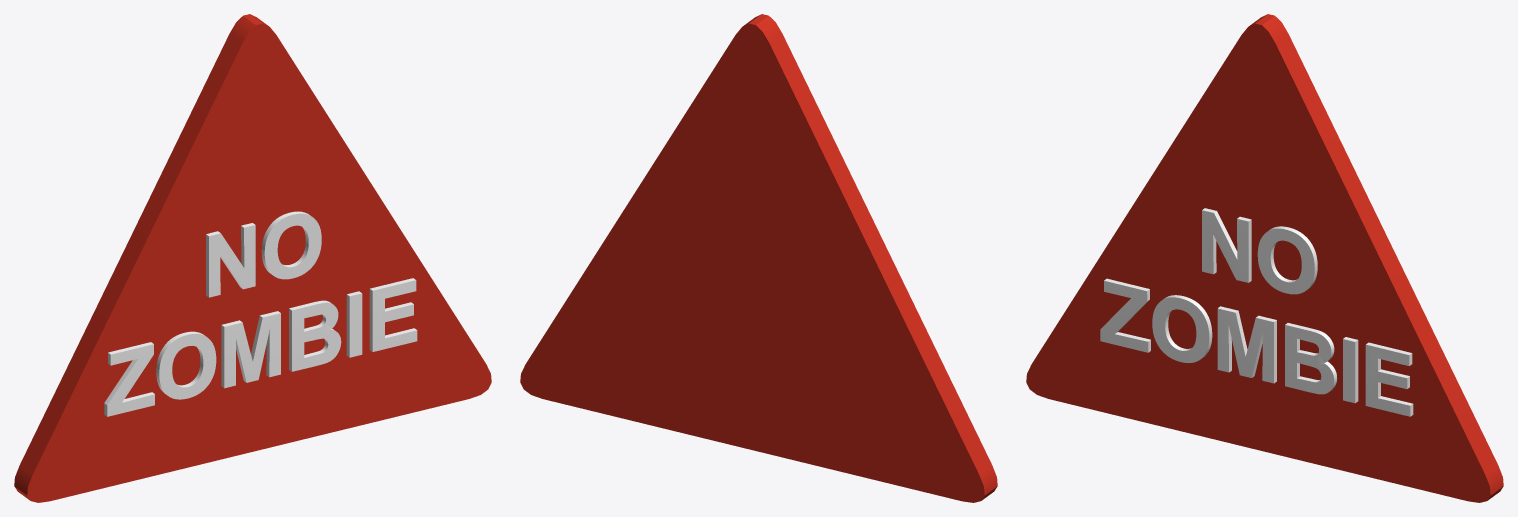
File: 15 No Zombie board.FBX
3 views of the same model, side by side, from view 1: azimuth 30°, elevation 25°; view 2: azimuth 150°, elevation 25°; view 3: azimuth 330°, elevation 25° (orthographic).
Visible parts, largest first — view 1: No_Zombie_board; view 2: No_Zombie_board; view 3: No_Zombie_board.
Part boxes in pixels (x1=…): No_Zombie_board: x1=14, y1=14, x2=491, y2=502; No_Zombie_board: x1=520, y1=14, x2=997, y2=502; No_Zombie_board: x1=1026, y1=14, x2=1503, y2=502.
Size of the model in its own units: 653 by 572 by 39.35.
